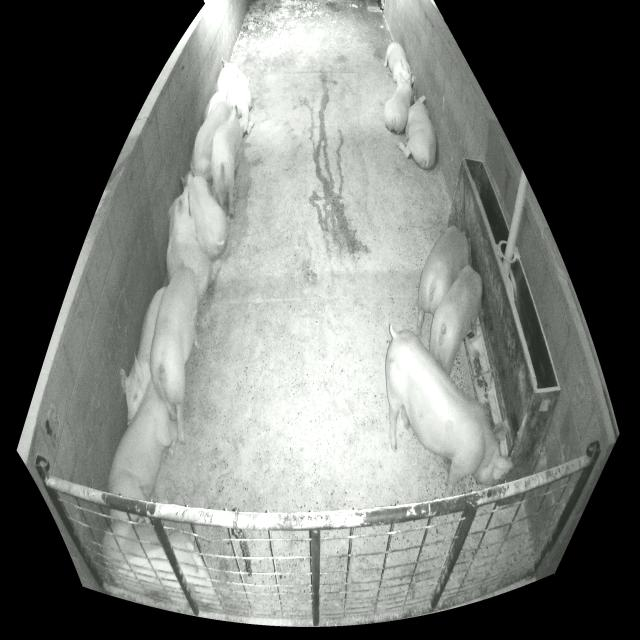pig: (386, 324, 513, 497), (103, 519, 215, 609), (152, 265, 206, 442), (108, 378, 177, 501), (120, 287, 165, 423), (166, 187, 220, 299), (416, 226, 469, 336), (429, 265, 482, 374), (181, 161, 228, 260), (192, 91, 238, 183), (212, 107, 248, 216), (397, 95, 436, 169), (216, 59, 253, 120), (384, 72, 414, 133), (384, 42, 411, 86), (204, 92, 226, 121)
